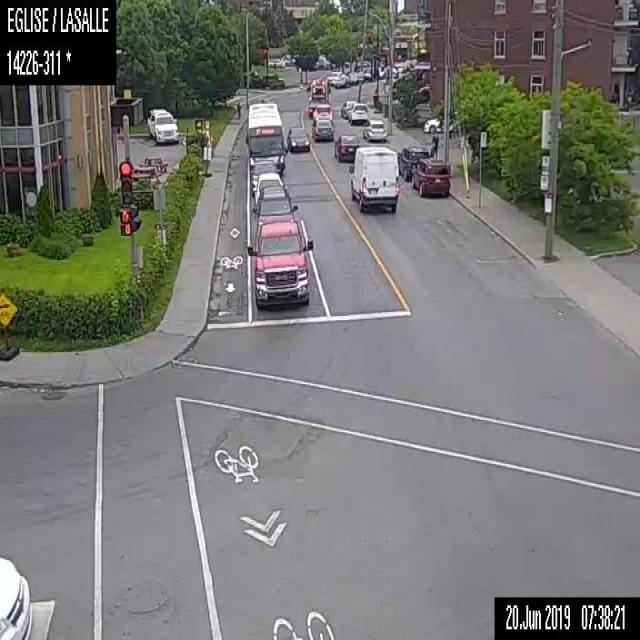bus: (244, 100, 288, 172)
pedestrian: (428, 129, 439, 160), (234, 100, 241, 117)
vehicle: (246, 219, 315, 312), (347, 144, 400, 212), (0, 556, 32, 639), (249, 184, 298, 227), (410, 156, 450, 197), (144, 106, 178, 147), (396, 143, 429, 181), (304, 76, 330, 117), (252, 172, 286, 200), (332, 132, 361, 161), (360, 116, 387, 142), (285, 125, 311, 151), (247, 157, 276, 180), (310, 116, 335, 142), (347, 101, 368, 125), (324, 68, 346, 90), (423, 113, 444, 132), (312, 104, 333, 121), (340, 100, 353, 120), (267, 57, 285, 69)
